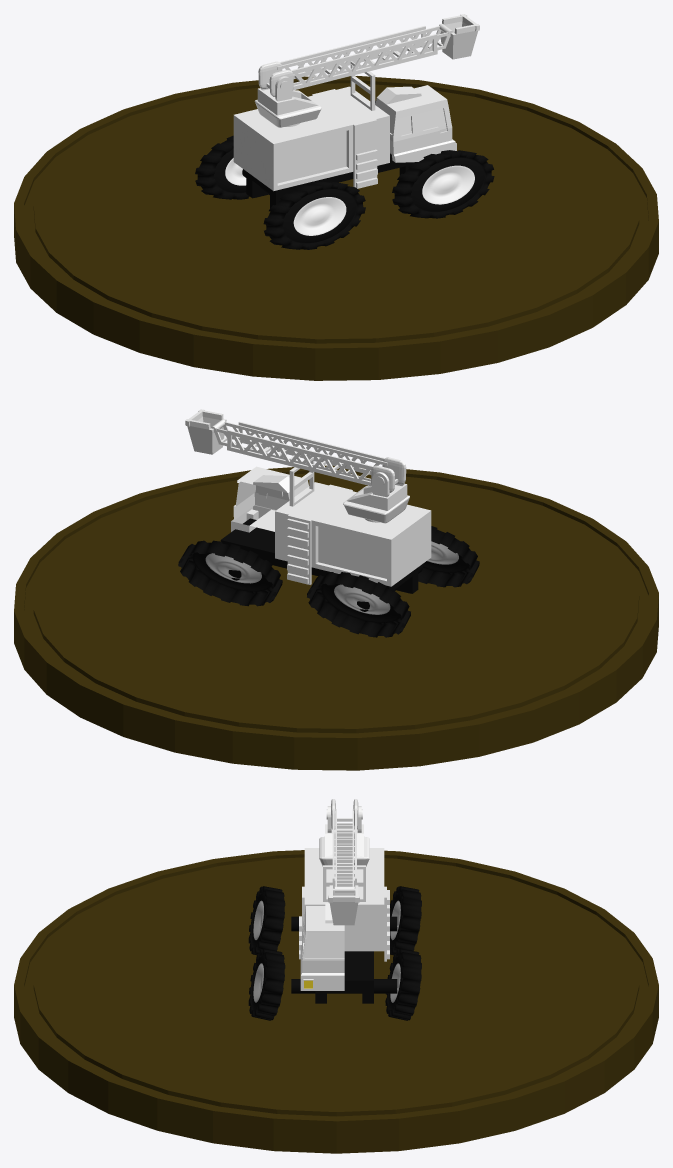
The model's file is firefighter2.glb.
3 renders of one model, top to bottom at view 1: azimuth 30°, elevation 25°; view 2: azimuth 150°, elevation 25°; view 3: azimuth 270°, elevation 25°, orthographic.
Parts seen in each view (by area): view 1: Cylinder, Cube.008, Cylinder.017, Cylinder.019, Cube.006, Cube.009, Cylinder.018, Cube.010, Cube.011, Cube.007; view 2: Cylinder, Cube.008, Cylinder.016, Cylinder.018, Cube.009, Cube.006, Cylinder.019, Cube.010, Cube.007, Cube.011; view 3: Cylinder, Cube.008, Cube.006, Cylinder.017, Cylinder.019, Cylinder.016, Cylinder.018, Cube.007, Cube.009, Cube.011, Cube.010, Cylinder.015.
Boxes of the visible parts, x1,y1,x2,y2 form: Cylinder: (14, 76, 658, 380); Cube.008: (233, 64, 389, 191); Cylinder.017: (392, 150, 494, 218); Cylinder.019: (263, 181, 365, 249); Cube.006: (375, 85, 456, 162); Cube.009: (258, 26, 437, 96); Cylinder.018: (195, 135, 249, 199); Cube.010: (277, 23, 453, 85); Cube.011: (439, 14, 479, 59); Cube.007: (246, 153, 417, 208); Cylinder: (14, 465, 658, 770); Cube.008: (275, 460, 431, 586); Cylinder.016: (178, 540, 282, 606); Cylinder.018: (307, 572, 410, 637); Cube.009: (227, 421, 406, 492); Cube.006: (231, 466, 308, 532); Cylinder.019: (418, 526, 479, 587); Cube.010: (211, 419, 387, 481); Cube.007: (220, 518, 418, 593); Cube.011: (185, 409, 226, 454); Cylinder: (14, 850, 658, 1153); Cube.008: (299, 806, 389, 961); Cube.006: (300, 903, 344, 990); Cylinder.017: (248, 948, 285, 1020); Cylinder.019: (248, 886, 285, 955); Cylinder.016: (385, 948, 421, 1020); Cylinder.018: (390, 886, 421, 955); Cube.007: (315, 951, 373, 1003); Cube.009: (331, 799, 358, 888); Cube.011: (328, 885, 359, 925); Cube.010: (335, 809, 354, 892); Cylinder.015: (291, 979, 397, 993).
Size of the model in its own units: 8.93 by 2.88 by 8.93.
